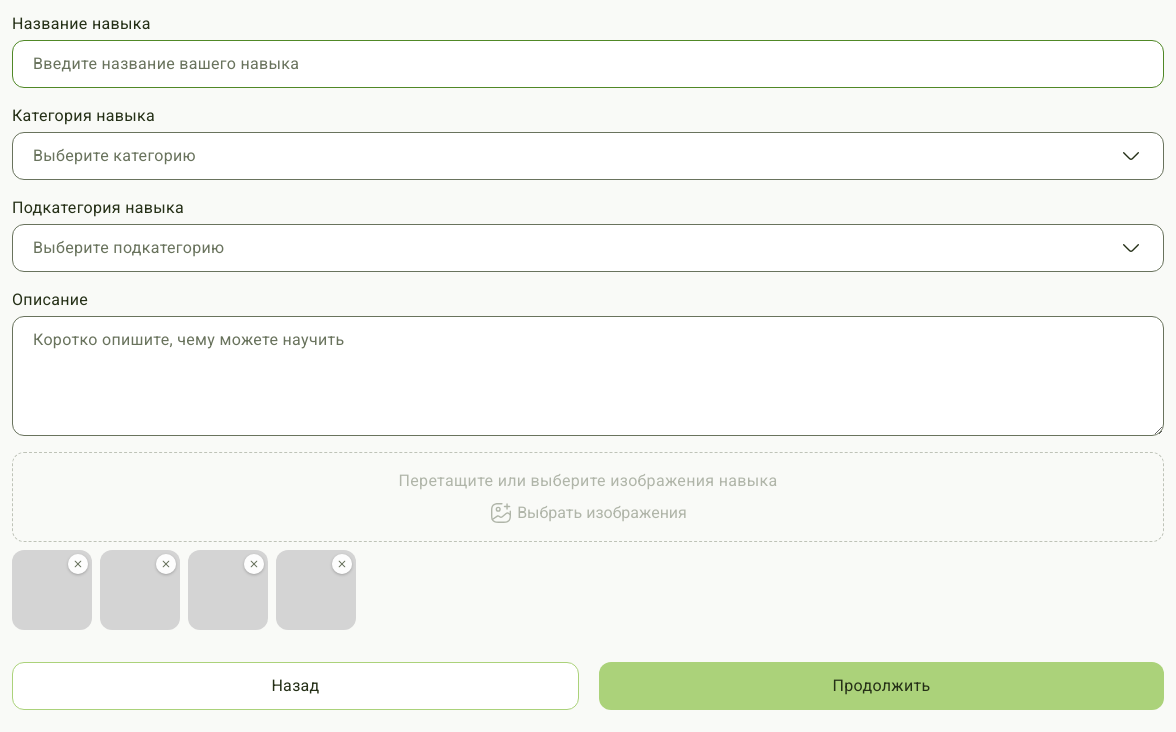
SkillForm › после удаления фото позволяет выбрать замену
Earlier steps of the test are not shown.
Later steps or results of the test are not shown.
Click the button named "Удалить фото 2". click: (166, 564)
box: [156,554,176,574]
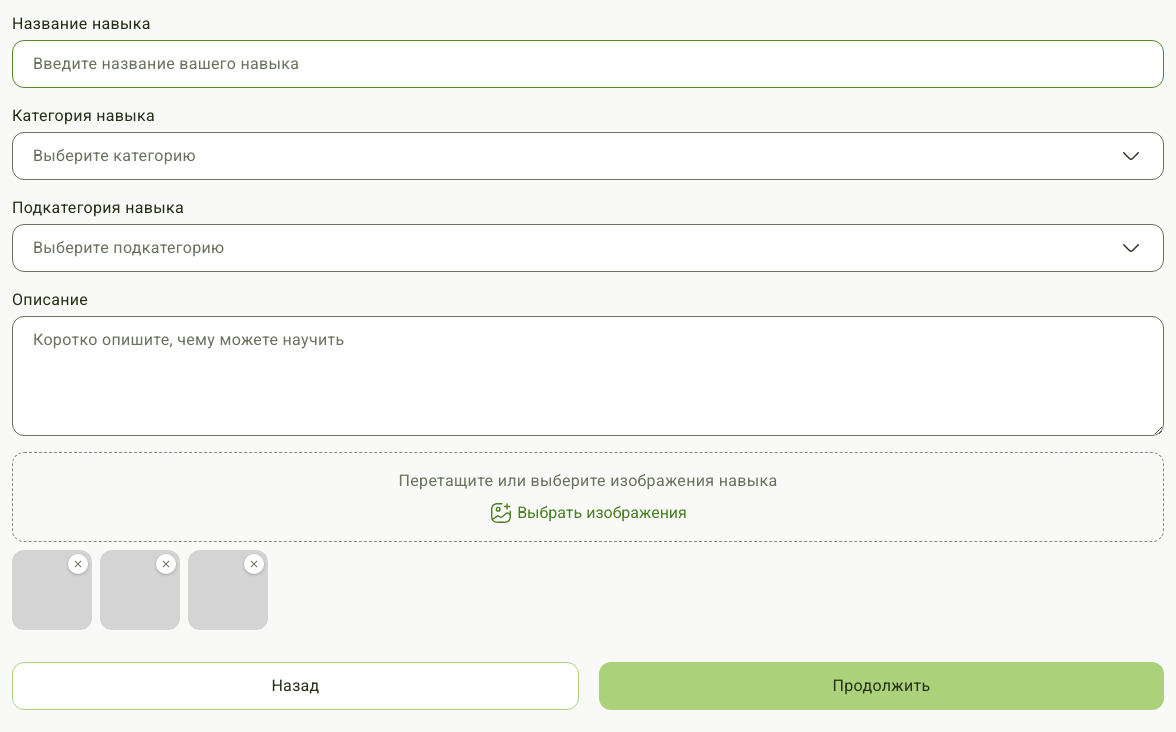
Expected: the button "Выбрать изображения" is enabled, [489,501,687,525]
